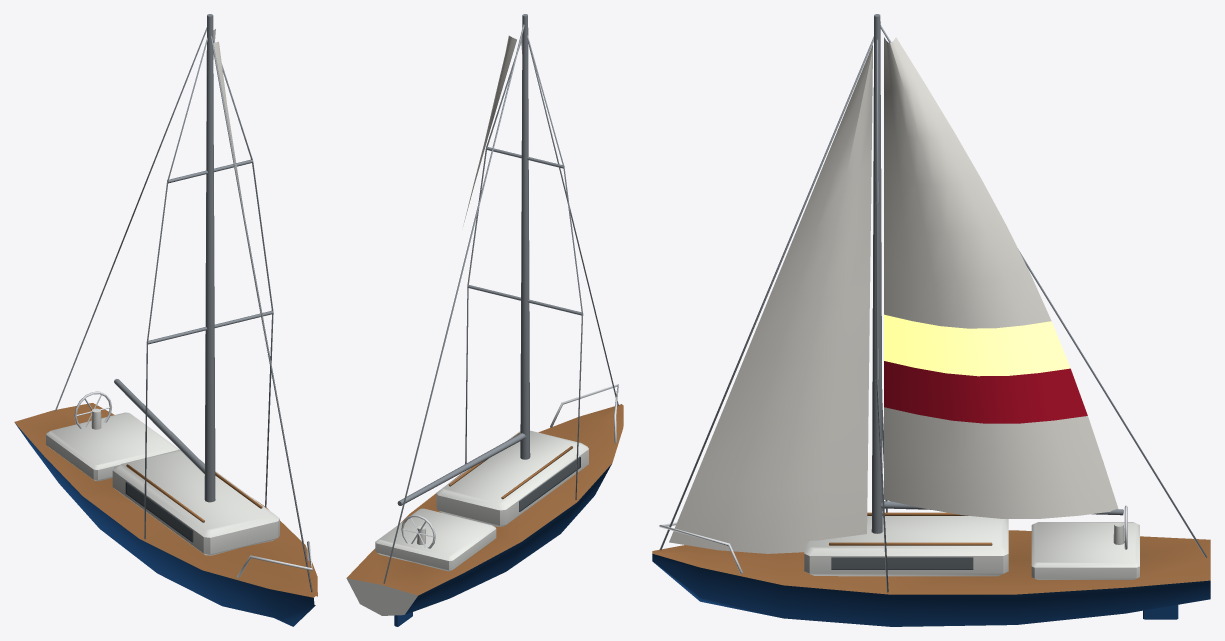
The model's file is lmf_sailboat_ijsselmeer.glb.
3 views of the same model, side by side, from view 1: azimuth 30°, elevation 25°; view 2: azimuth 150°, elevation 25°; view 3: azimuth 270°, elevation 25° (orthographic). The views are drawn at different scales.
Parts seen in each view (by area): view 1: body; view 2: body; view 3: body.
Part boxes in pixels (bbox=[...]): body: bbox=[14, 14, 317, 626]; body: bbox=[346, 14, 623, 626]; body: bbox=[652, 14, 1210, 626].
Bounding box in the file's own units: 3.76 × 16 × 13.4.
